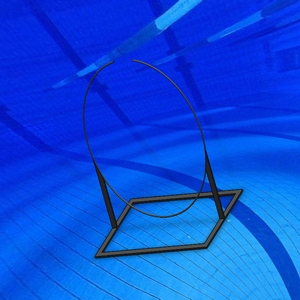circle: (81, 58, 244, 259)
